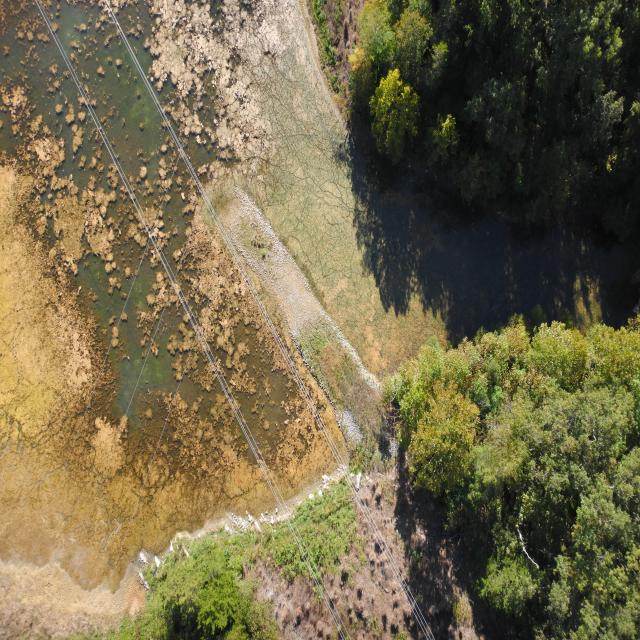Area of Interest: (416, 343, 632, 637), (355, 23, 633, 206)
